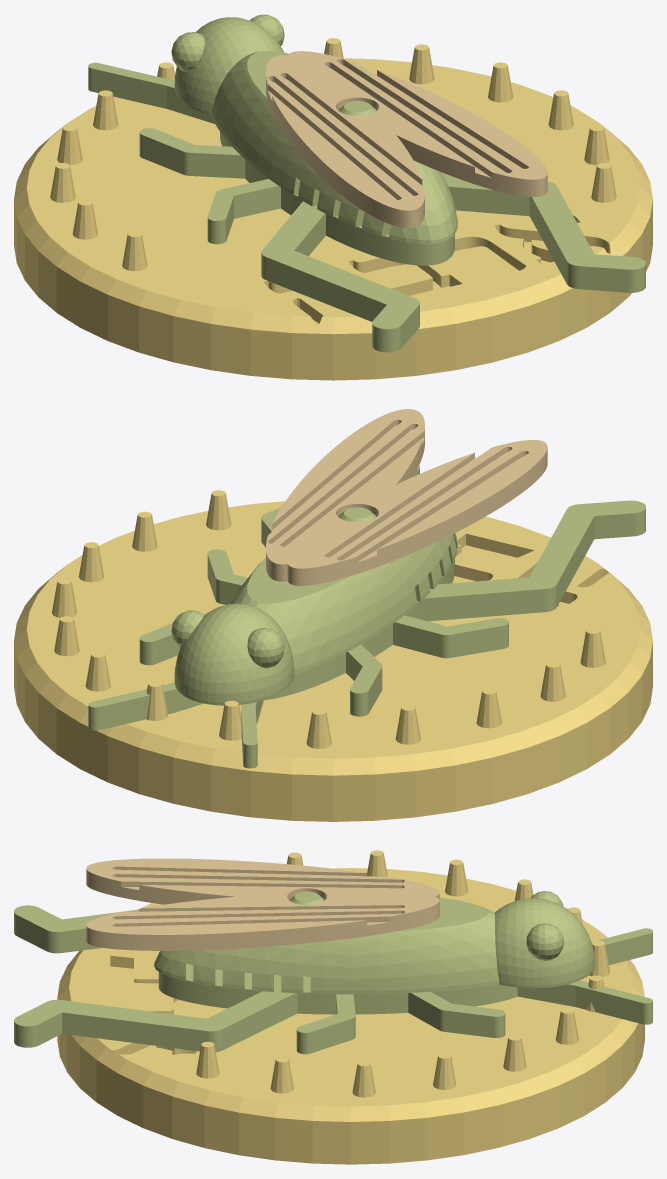
Rendered from locusts.glb.
The picture shows the model from 3 angles, top to bottom: view 1: azimuth 30°, elevation 25°; view 2: azimuth 150°, elevation 25°; view 3: azimuth 270°, elevation 25°; orthographic projection. The views are drawn at different scales.
Parts seen in each view (by area): view 1: stage, legs, wings, body; view 2: stage, wings, legs, body; view 3: stage, legs, body, wings.
Boxes of the visible parts, x1,y1,x2,y2 form: stage: (14, 38, 652, 380); legs: (88, 62, 645, 352); wings: (266, 51, 547, 227); body: (171, 14, 457, 244); stage: (14, 490, 652, 821); wings: (266, 409, 547, 585); legs: (88, 466, 645, 768); body: (171, 507, 457, 705); stage: (57, 850, 644, 1164); legs: (14, 905, 652, 1054); body: (154, 891, 594, 994); wings: (86, 858, 439, 950).
Bounding box in the file's own units: 40 × 10.8 × 43.5.
